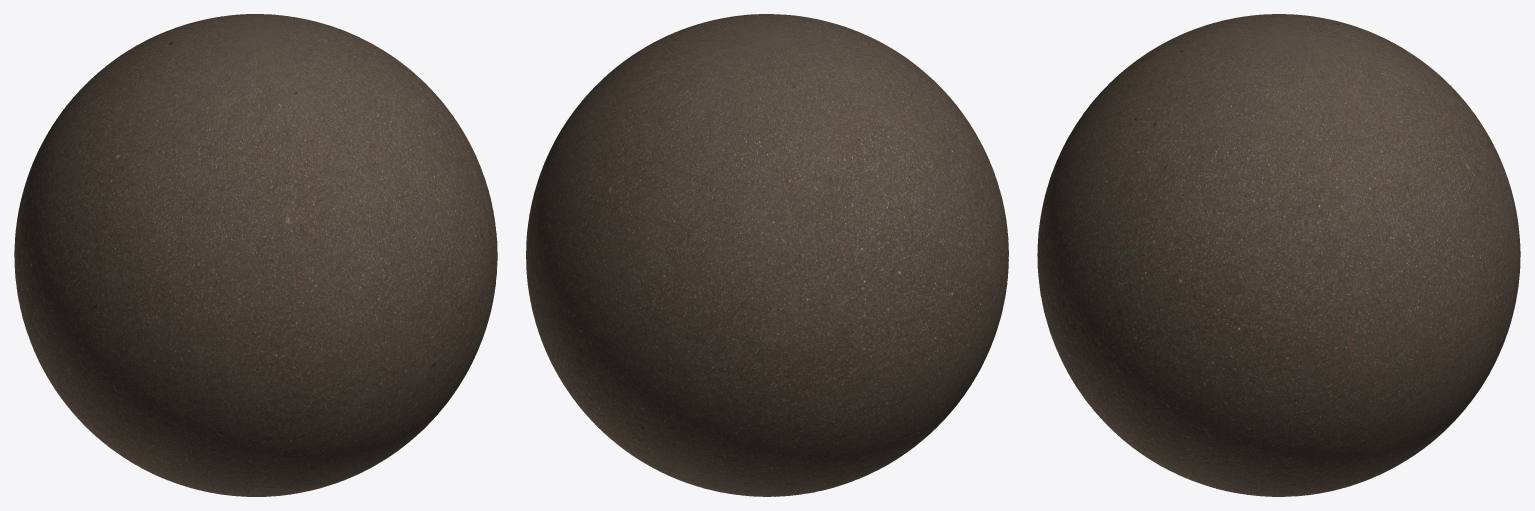
The model's file is asphalt_07_2k.gltf.
3 views of the same model, side by side, from view 1: azimuth 30°, elevation 25°; view 2: azimuth 150°, elevation 25°; view 3: azimuth 270°, elevation 25° (orthographic).
Visible parts, largest first — view 1: sphere_gltf; view 2: sphere_gltf; view 3: sphere_gltf.
Part boxes in pixels (x1,y1,x2,y2): sphere_gltf: [14, 14, 497, 496]; sphere_gltf: [526, 14, 1008, 496]; sphere_gltf: [1037, 14, 1520, 496].
Size of the model in its own units: 2.5 by 2.5 by 2.5.
Materials: 1 (1 with a texture image).
